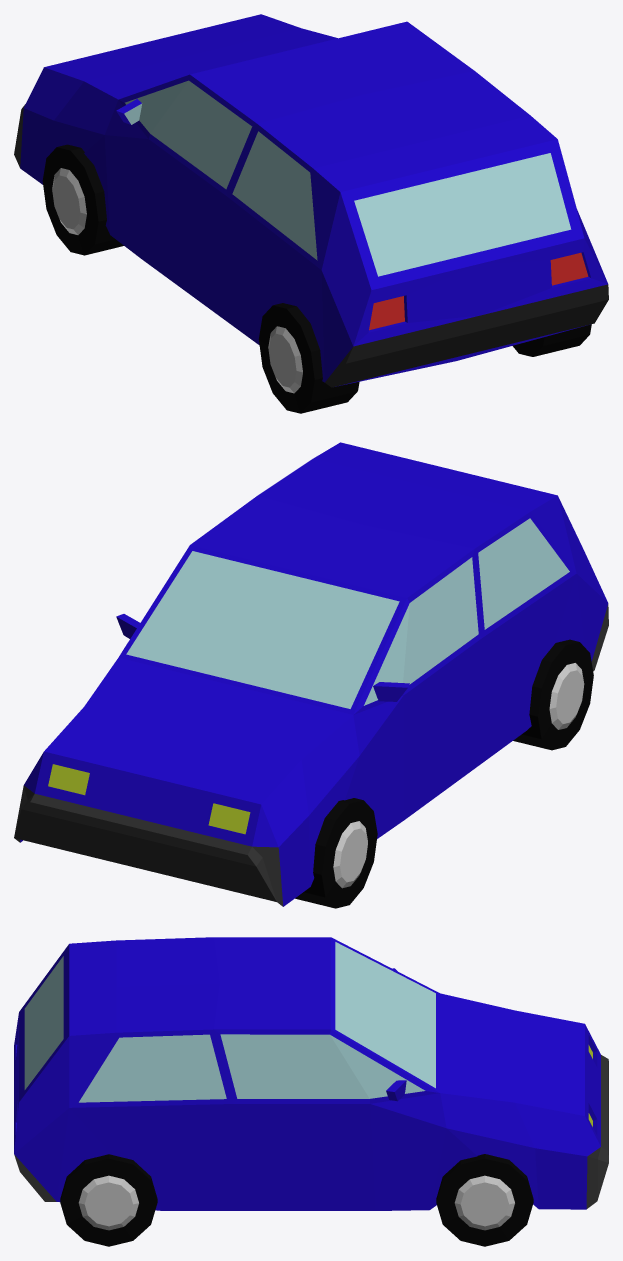
File: CarroDaFirma.fbx
3 views of the same model, one above another, from view 1: azimuth 30°, elevation 25°; view 2: azimuth 150°, elevation 25°; view 3: azimuth 270°, elevation 25° (orthographic). The views are drawn at different scales.
Parts seen in each view (by area): view 1: Carro sem seta.002; view 2: Carro sem seta.002; view 3: Carro sem seta.002.
Boxes of the visible parts, x1,y1,x2,y2 form: Carro sem seta.002: [14, 14, 608, 413]; Carro sem seta.002: [14, 442, 608, 908]; Carro sem seta.002: [14, 937, 608, 1246].
Bounding box in the file's own units: 289 × 222 × 586.
